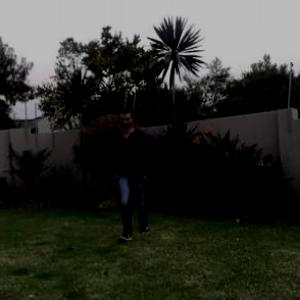follow: (115, 110, 150, 231)
